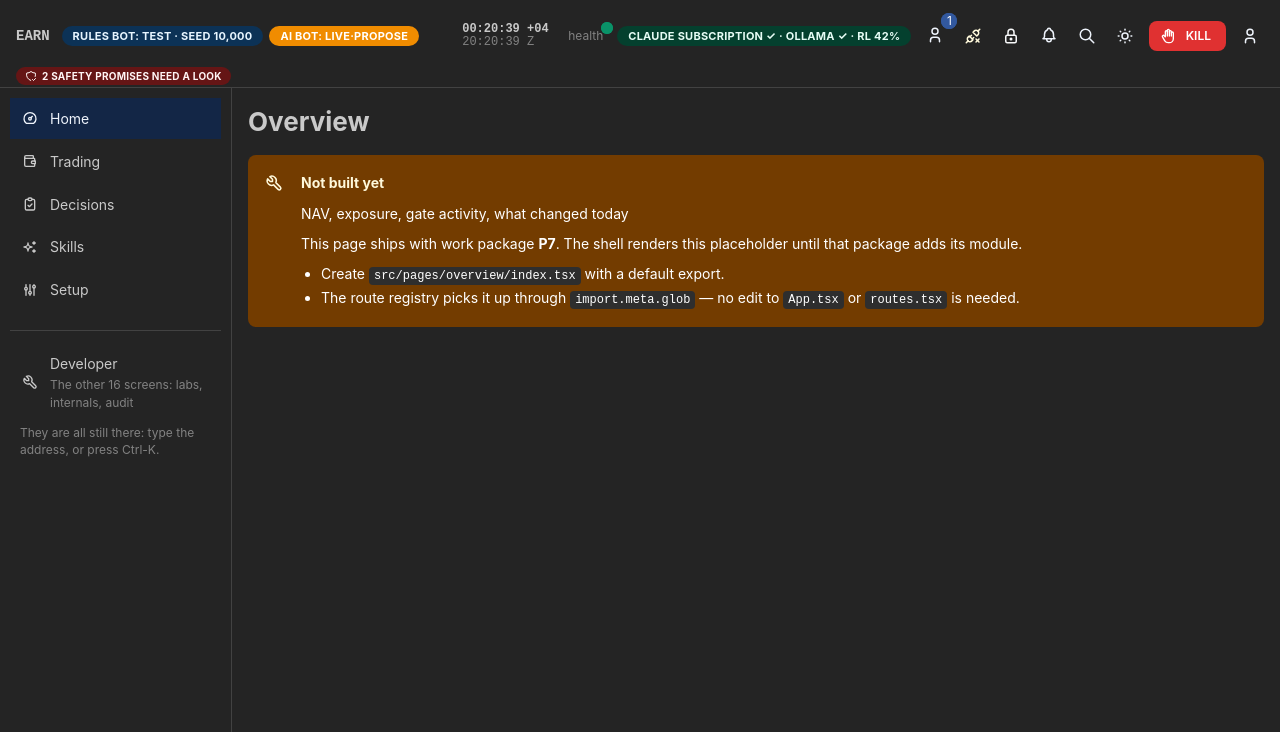
Scenario: shell › brings the developer screens into the navigation, and takes them out again
The image size is (1280, 732).
Expected: the header with test id "app-header" is shown, [0,12,1279,88]
Click the button with test id "view-mode-toggle".
click(116, 382)  # box [10,343,221,421]
(page scrolled)
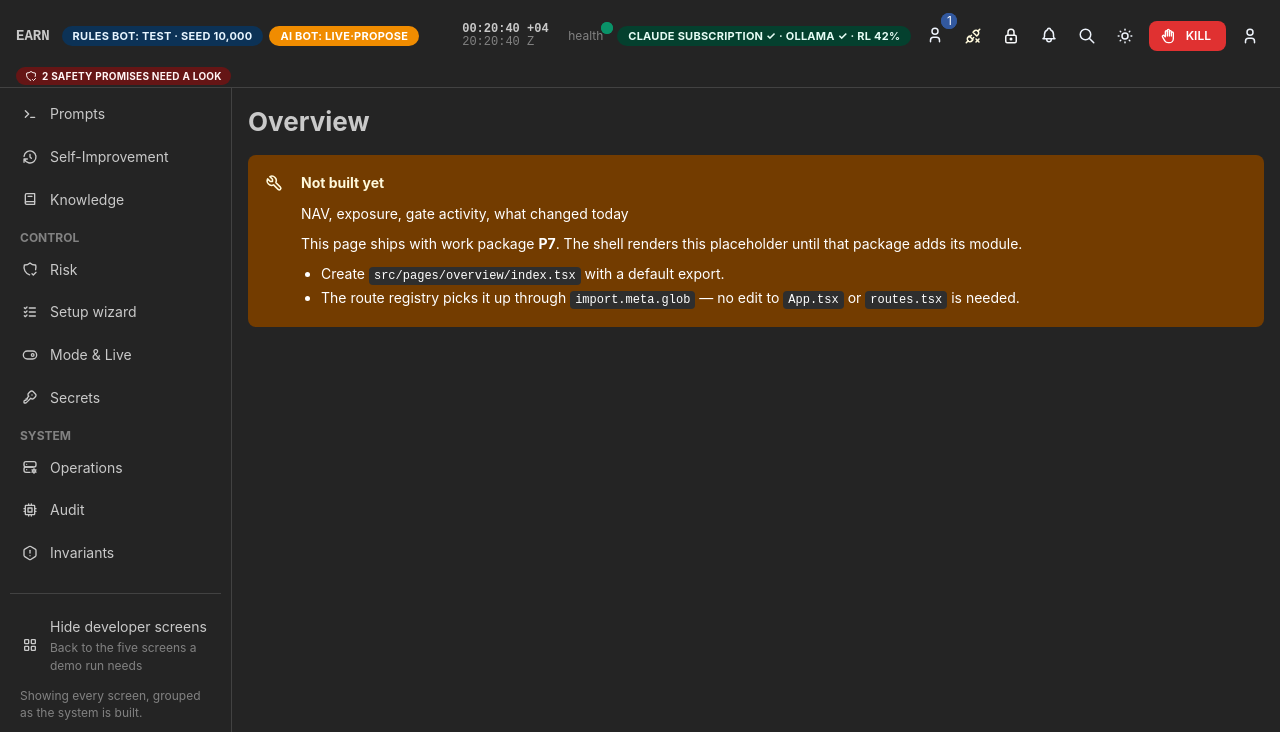
Expected: the link with test id "nav-audit" is shown, [22,501,84,518]
Result: the link with test id "nav-invariants" is shown at [22,544,114,561]
Click the button with test id "view-mode-toggle".
click(116, 645)  # box [10,606,221,684]
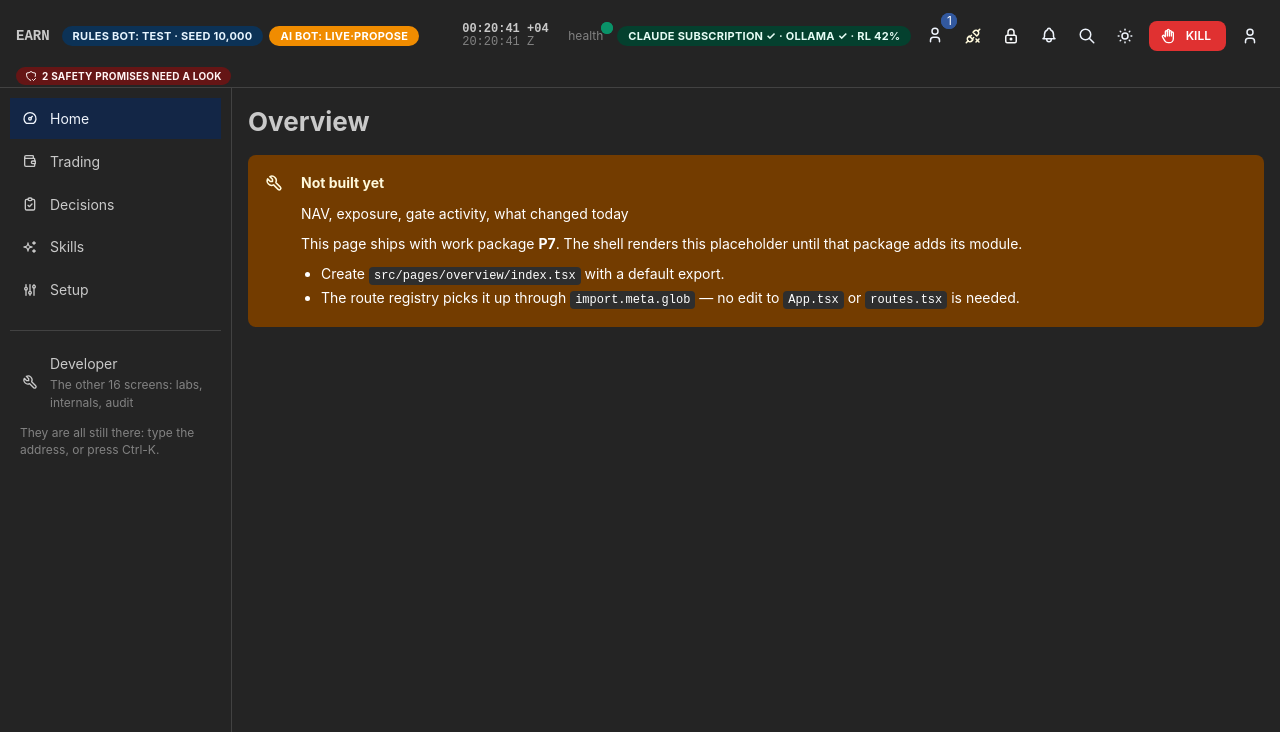
Result: the link with test id "nav-invariants" is gone
Result: the link with test id "nav-overview" is shown at [10,98,221,139]
